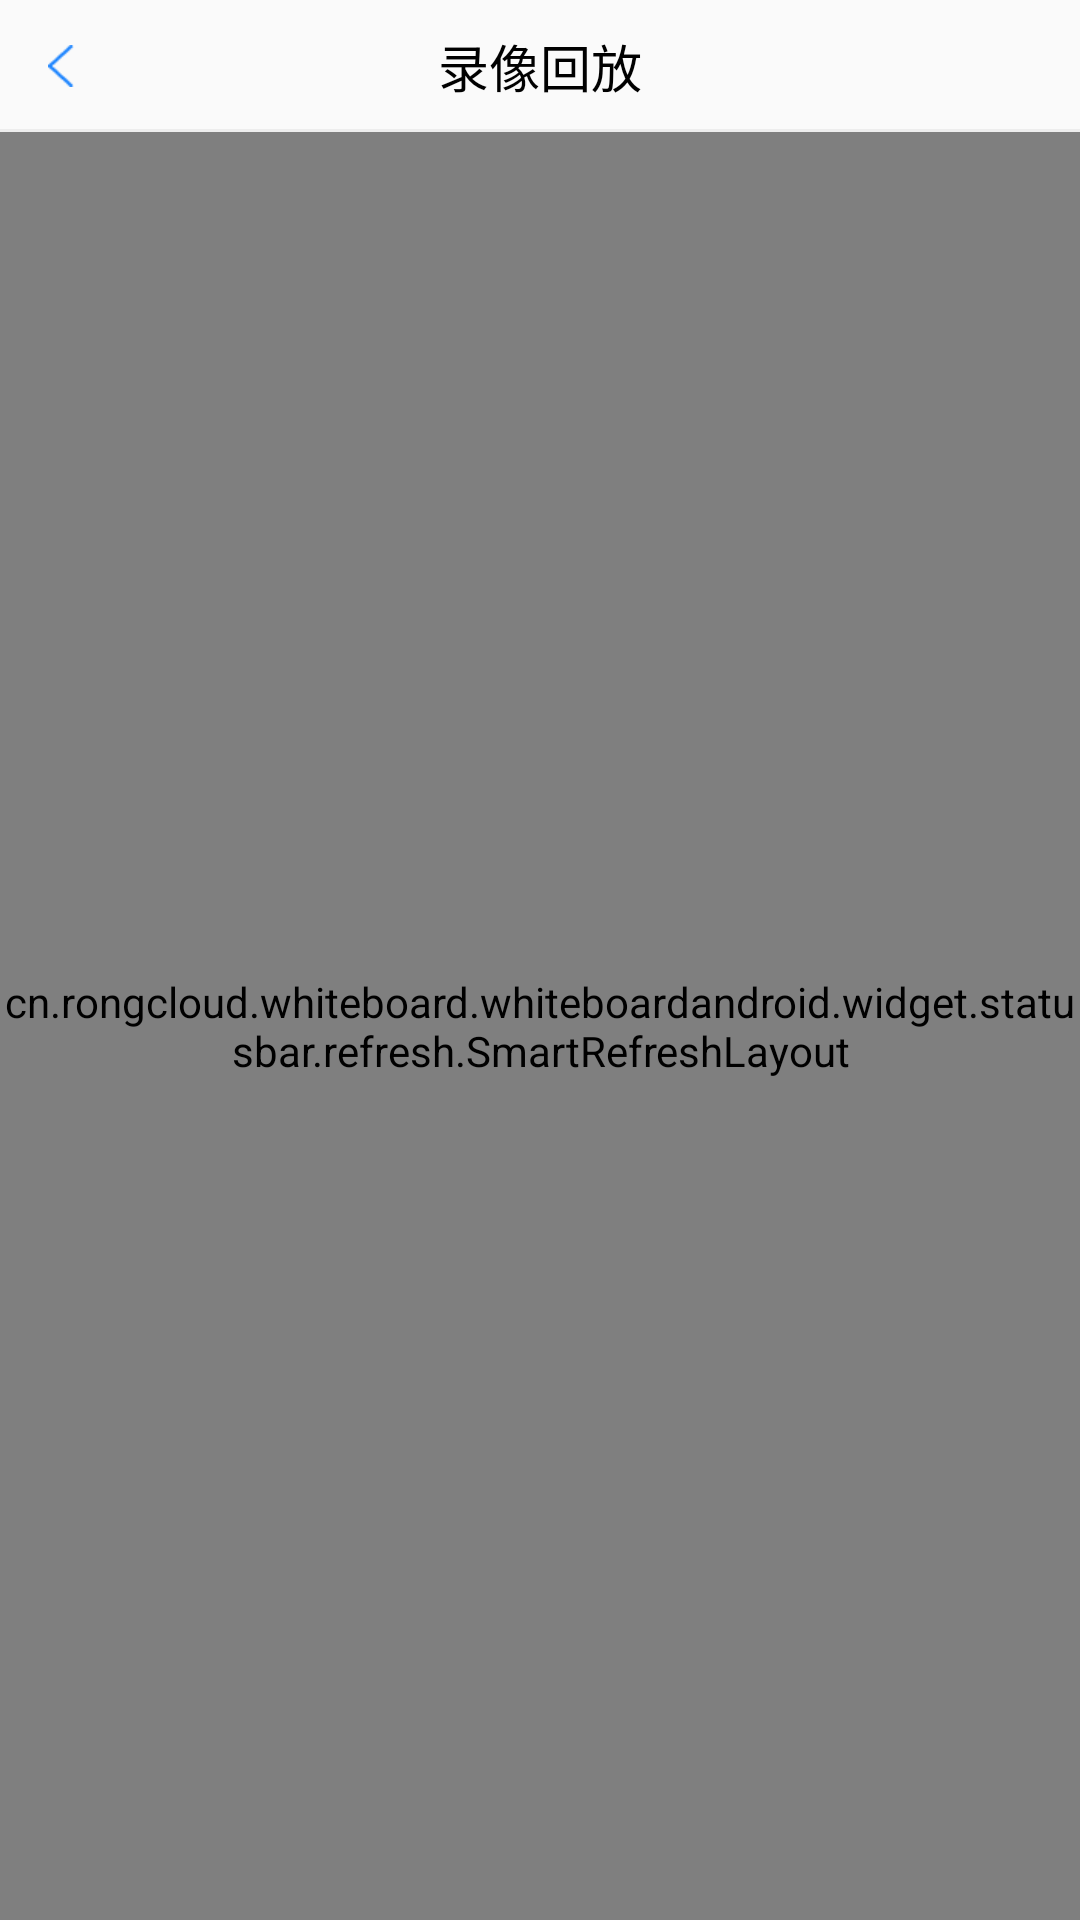

Locate icon controls on the screen. Image size 1080px×1920px, boxes as (x1, y1, x2, y2).
page callback: (48, 45, 74, 87)
